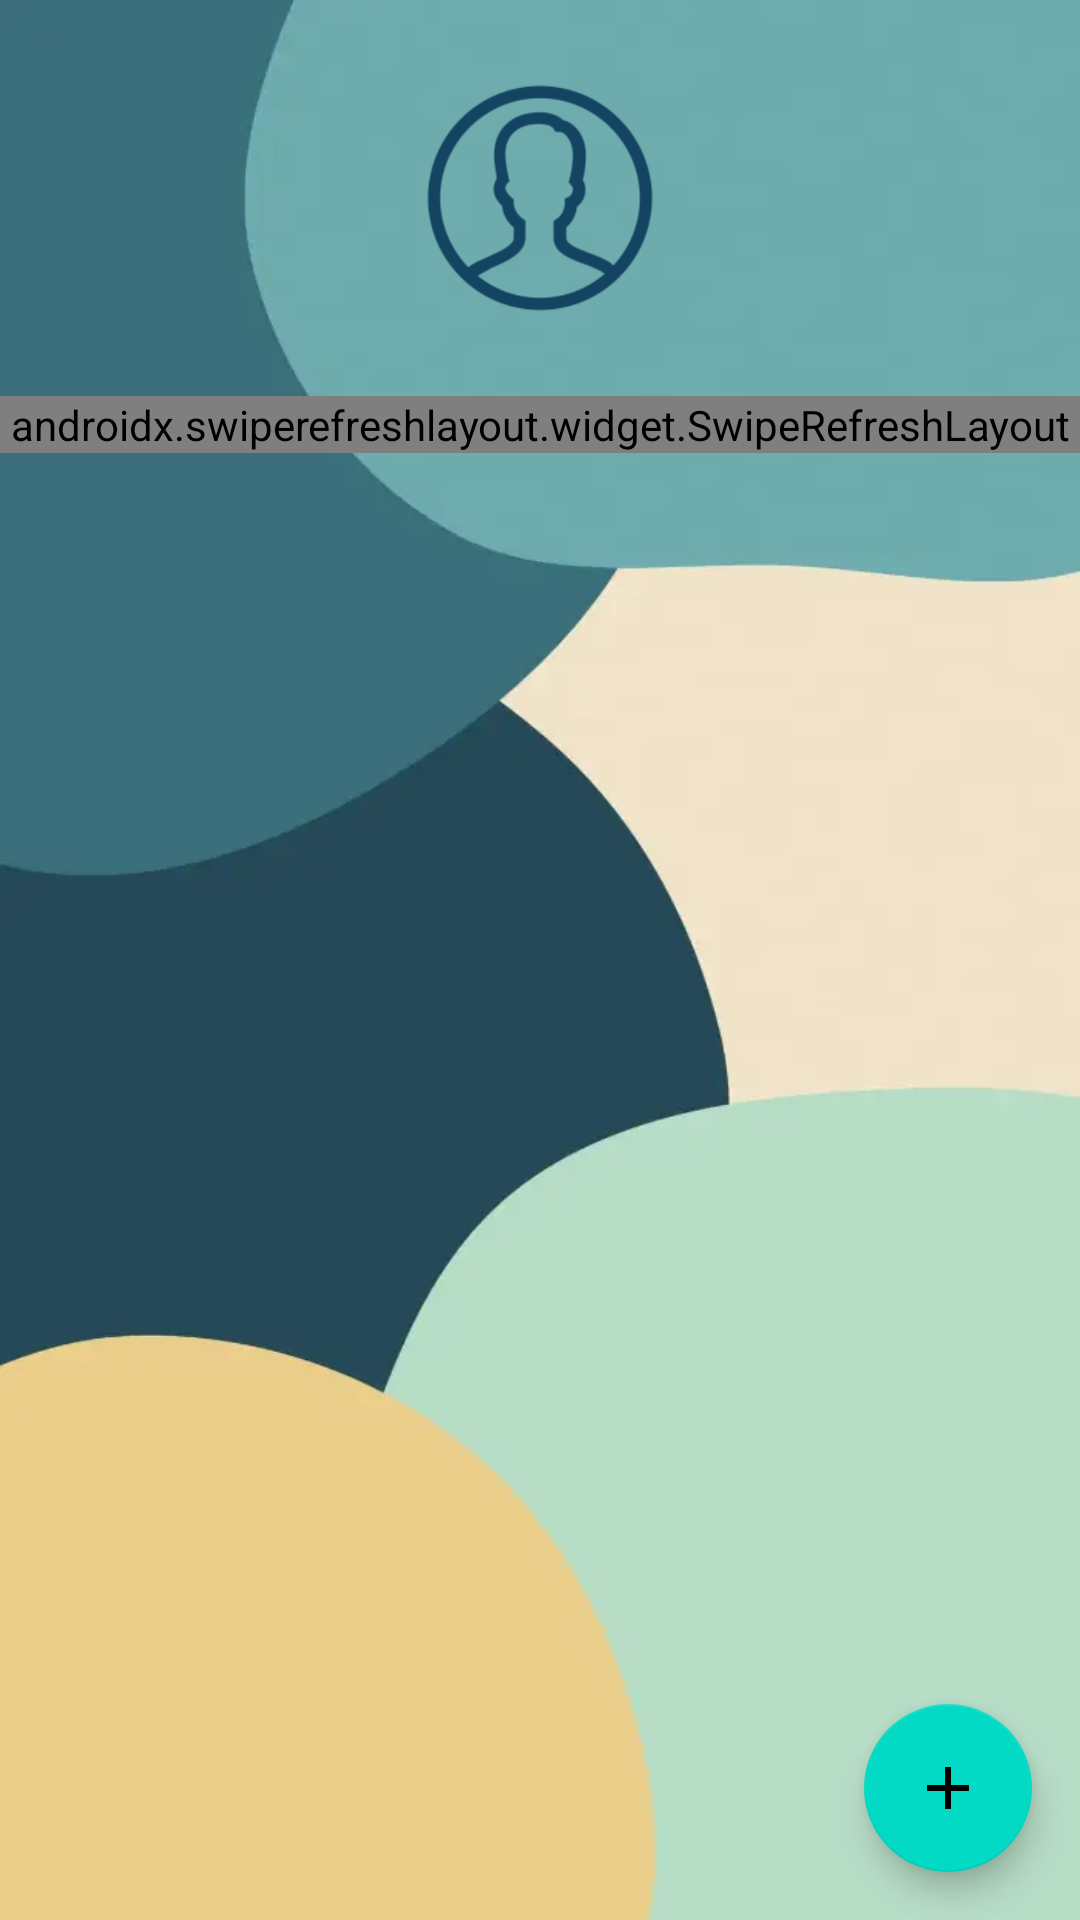

Named icons in this screenshot (1080 x 1920) and their bounding boxes, (x1, y1, x2, y2):
mas: (864, 1704, 1032, 1872)
